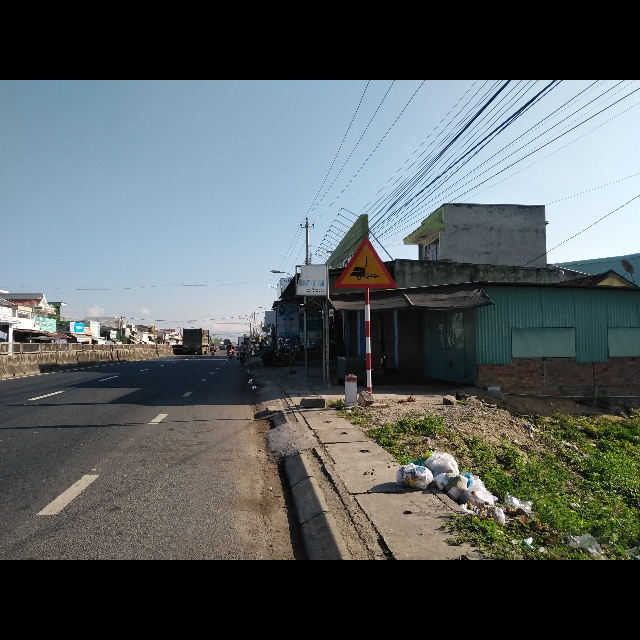Khu vực quay đầu xe: (332, 236, 399, 290)
